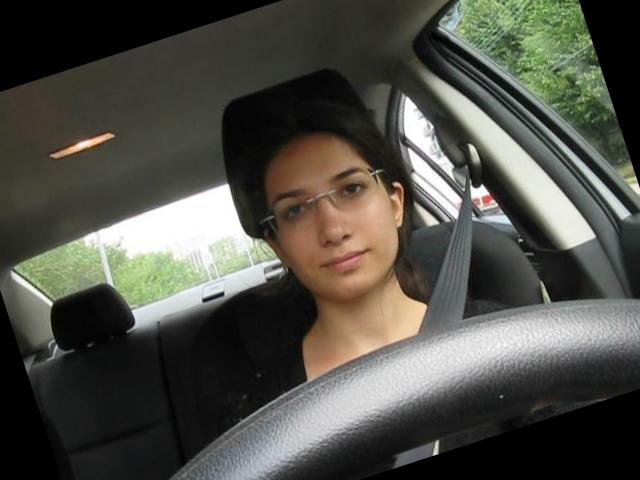eye_open: (330, 172, 373, 204), (274, 196, 315, 229)
face: (256, 136, 414, 316)
